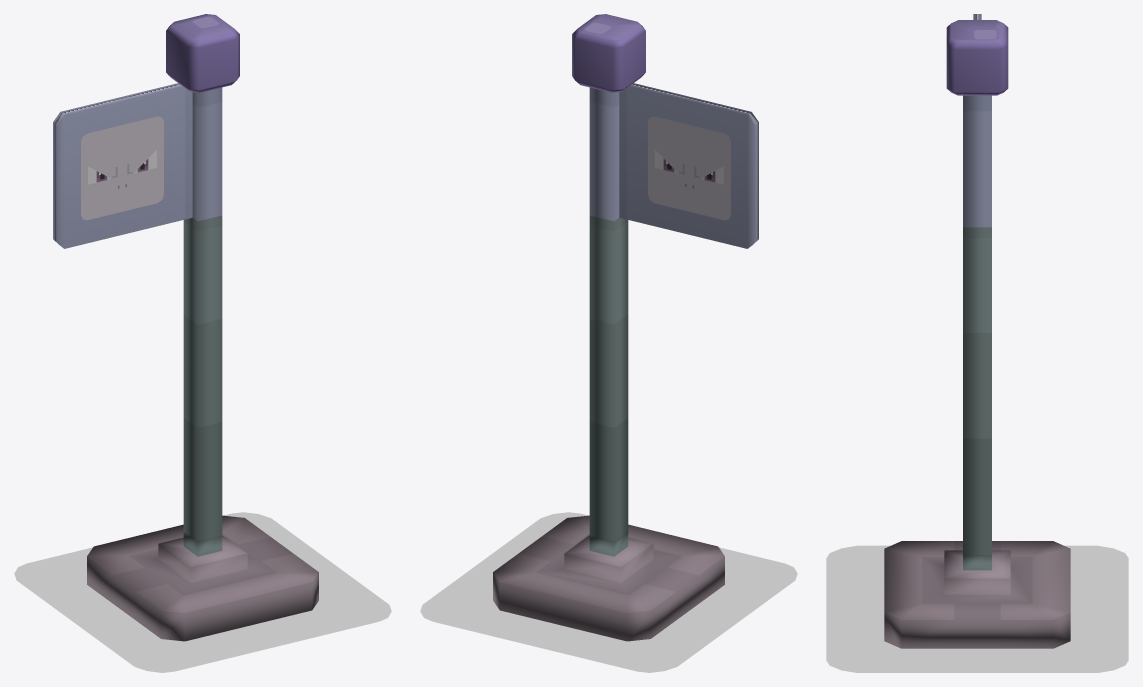
File: G_makeover_S_flag_4.fbx
3 views of the same model, side by side, from view 1: azimuth 30°, elevation 25°; view 2: azimuth 150°, elevation 25°; view 3: azimuth 270°, elevation 25° (orthographic). The views are drawn at different scales.
Parts seen in each view (by area): view 1: pole, flag, ground; view 2: pole, flag, ground; view 3: pole, ground.
Part boxes in pixels (box(x1,y1,x2,y2)): pole: box(87, 14, 318, 641); flag: box(53, 83, 192, 248); ground: box(14, 512, 391, 672); pole: box(493, 14, 724, 641); flag: box(619, 83, 758, 248); ground: box(420, 512, 797, 672); pole: box(884, 20, 1070, 648); ground: box(826, 545, 1128, 672).
Bounding box in the file's own units: 3.49 × 6.88 × 3.24.
